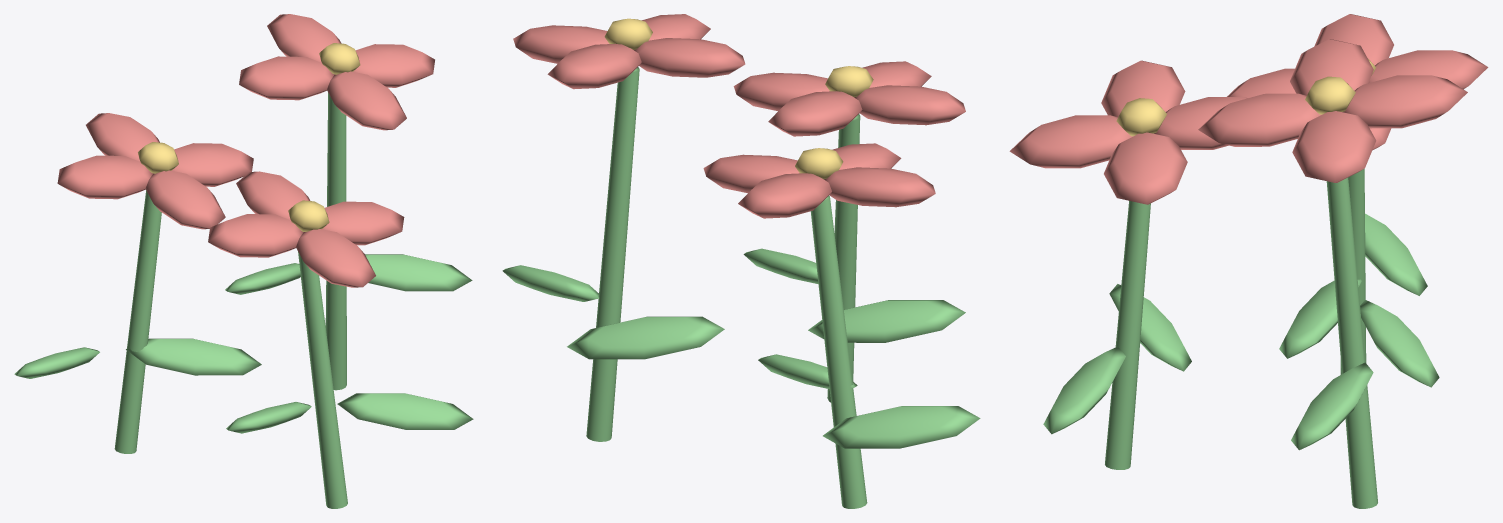
Rendered from flower_4_summer.glb.
The picture shows the model from 3 angles, left to right: view 1: azimuth 30°, elevation 25°; view 2: azimuth 150°, elevation 25°; view 3: azimuth 270°, elevation 25°; orthographic projection. The views are drawn at different scales.
Bounding box in the file's own units: 0.5021 × 0.4111 × 0.4064.
